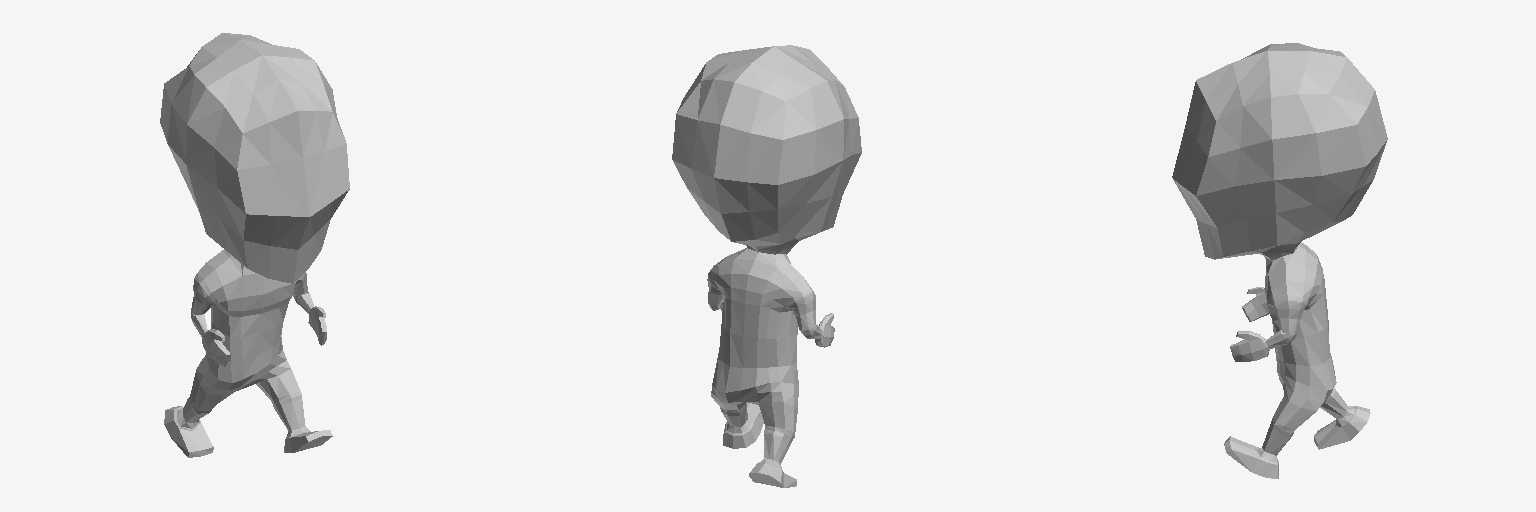
File: char_000012.obj
The picture shows the model from 3 angles: view 1: azimuth 30°, elevation 25°; view 2: azimuth 150°, elevation 25°; view 3: azimuth 270°, elevation 25°; orthographic projection.
Visible parts, largest first — view 1: lp_guy_mesh_Cube; view 2: lp_guy_mesh_Cube; view 3: lp_guy_mesh_Cube.
Part boxes in pixels (x1,y1,x2,y2): lp_guy_mesh_Cube: (160, 33, 349, 457); lp_guy_mesh_Cube: (672, 45, 861, 487); lp_guy_mesh_Cube: (1172, 43, 1387, 478).
Size of the model in its own units: 0.7344 by 1.98 by 0.9444.